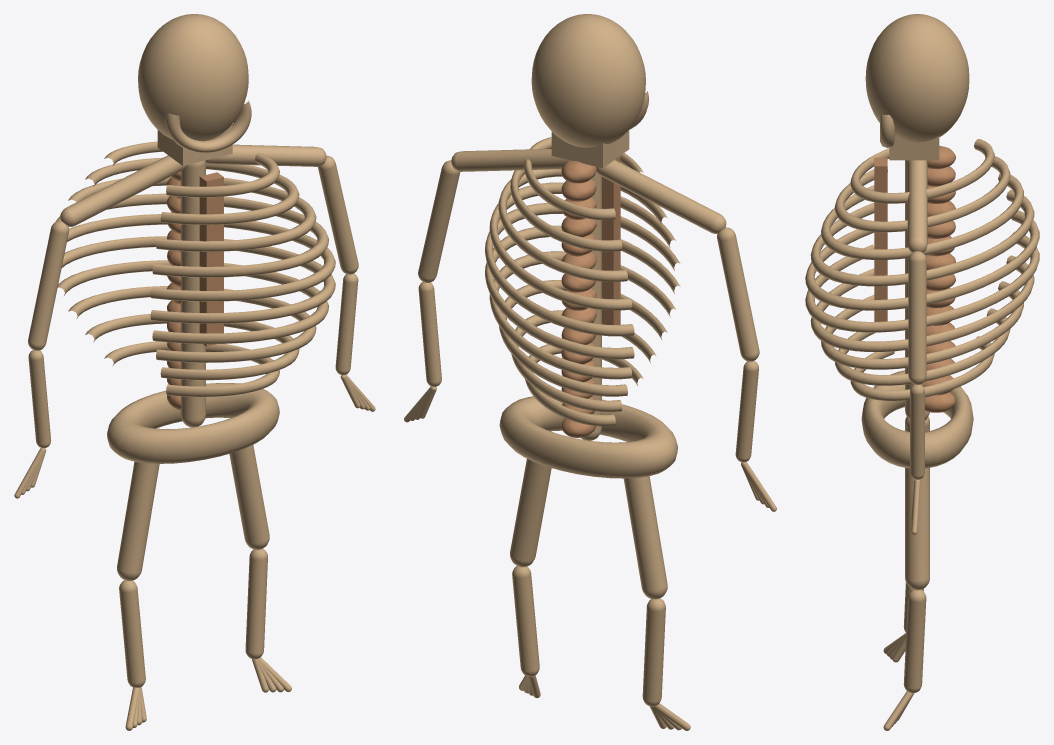
File: skeleton.9ec15c43.glb
3 views of the same model, side by side, from view 1: azimuth 30°, elevation 25°; view 2: azimuth 150°, elevation 25°; view 3: azimuth 270°, elevation 25° (orthographic). The views are drawn at different scales.
Parts seen in each view (by area): view 1: procedural-skeleton-surface-1, procedural-skeleton-surface-37, procedural-skeleton-surface-9, procedural-skeleton-surface-10, procedural-skeleton-surface-11, procedural-skeleton-surface-8, procedural-skeleton-surface-3, procedural-skeleton-surface-12, procedural-skeleton-surface-6, procedural-skeleton-surface-38, procedural-skeleton-surface-7, procedural-skeleton-surface-13 (+14 smaller); view 2: procedural-skeleton-surface-1, procedural-skeleton-surface-37, procedural-skeleton-surface-9, procedural-skeleton-surface-10, procedural-skeleton-surface-38, procedural-skeleton-surface-8, procedural-skeleton-surface-11, procedural-skeleton-surface-31, procedural-skeleton-surface-39, procedural-skeleton-surface-7, procedural-skeleton-surface-33, procedural-skeleton-surface-12 (+15 smaller); view 3: procedural-skeleton-surface-1, procedural-skeleton-surface-37, procedural-skeleton-surface-9, procedural-skeleton-surface-8, procedural-skeleton-surface-10, procedural-skeleton-surface-11, procedural-skeleton-surface-7, procedural-skeleton-surface-12, procedural-skeleton-surface-39, procedural-skeleton-surface-6, procedural-skeleton-surface-34, procedural-skeleton-surface-5 (+12 smaller).
Boxes of the visible parts, <box> form: procedural-skeleton-surface-1: <box>138,14,248,141</box>; procedural-skeleton-surface-37: <box>107,383,279,463</box>; procedural-skeleton-surface-9: <box>67,214,335,301</box>; procedural-skeleton-surface-10: <box>61,236,335,323</box>; procedural-skeleton-surface-11: <box>57,260,328,344</box>; procedural-skeleton-surface-8: <box>55,193,328,277</box>; procedural-skeleton-surface-3: <box>180,160,205,427</box>; procedural-skeleton-surface-12: <box>68,286,316,362</box>; procedural-skeleton-surface-6: <box>85,157,299,224</box>; procedural-skeleton-surface-38: <box>117,461,159,580</box>; procedural-skeleton-surface-7: <box>68,176,316,251</box>; procedural-skeleton-surface-13: <box>85,314,299,380</box>; procedural-skeleton-surface-1: <box>531,14,645,147</box>; procedural-skeleton-surface-37: <box>499,395,677,478</box>; procedural-skeleton-surface-9: <box>485,202,680,336</box>; procedural-skeleton-surface-10: <box>485,225,680,359</box>; procedural-skeleton-surface-38: <box>623,476,667,599</box>; procedural-skeleton-surface-8: <box>489,182,675,310</box>; procedural-skeleton-surface-11: <box>489,251,675,379</box>; procedural-skeleton-surface-31: <box>596,160,726,233</box>; procedural-skeleton-surface-39: <box>510,459,551,567</box>; procedural-skeleton-surface-7: <box>498,169,667,281</box>; procedural-skeleton-surface-33: <box>717,227,759,361</box>; procedural-skeleton-surface-12: <box>499,280,667,396</box>; procedural-skeleton-surface-1: <box>865,14,969,142</box>; procedural-skeleton-surface-37: <box>861,370,973,468</box>; procedural-skeleton-surface-9: <box>805,210,1039,310</box>; procedural-skeleton-surface-8: <box>810,189,1034,286</box>; procedural-skeleton-surface-10: <box>805,231,1039,332</box>; procedural-skeleton-surface-11: <box>810,255,1034,351</box>; procedural-skeleton-surface-7: <box>821,174,1023,259</box>; procedural-skeleton-surface-12: <box>821,281,1023,369</box>; procedural-skeleton-surface-39: <box>905,468,929,590</box>; procedural-skeleton-surface-6: <box>834,156,1010,232</box>; procedural-skeleton-surface-34: <box>908,251,926,384</box>; procedural-skeleton-surface-5: <box>850,139,994,203</box>.
Size of the model in its own units: 2.46 by 4.46 by 1.4.
